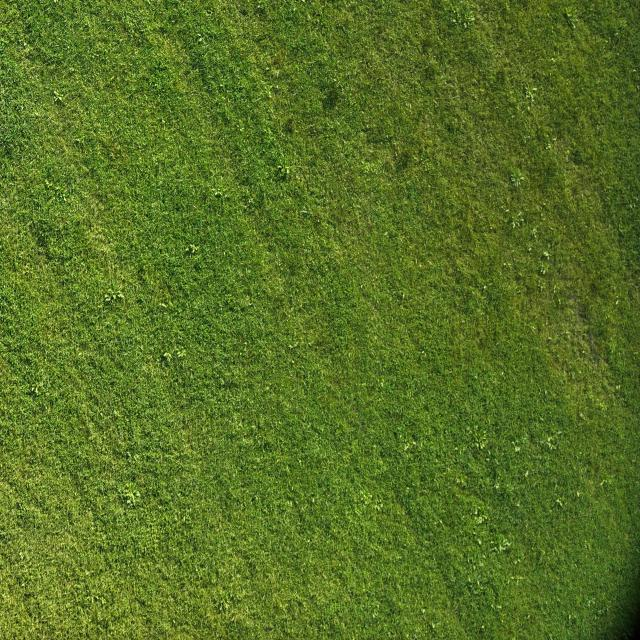rumex: (352, 99, 402, 154), (160, 340, 187, 364), (48, 180, 70, 204), (469, 428, 489, 454), (567, 145, 590, 165), (442, 78, 461, 100), (451, 10, 473, 28), (213, 592, 231, 613), (544, 432, 560, 452), (627, 76, 640, 100), (559, 360, 567, 394), (563, 9, 576, 29), (210, 186, 227, 201), (282, 117, 295, 136), (277, 161, 291, 177), (608, 340, 618, 362), (113, 292, 125, 310), (32, 381, 46, 396), (136, 267, 147, 286), (420, 198, 431, 217), (471, 513, 486, 526), (499, 539, 512, 552), (404, 438, 418, 450), (190, 57, 202, 71), (362, 162, 374, 174), (104, 291, 115, 304), (186, 243, 198, 254), (261, 439, 270, 452), (512, 218, 522, 229), (567, 615, 577, 626), (596, 606, 607, 616), (628, 199, 637, 210), (129, 494, 136, 507), (197, 37, 206, 47), (162, 351, 172, 360), (586, 598, 596, 607), (374, 501, 382, 512), (266, 88, 273, 100), (542, 252, 550, 262), (54, 89, 62, 99), (117, 290, 125, 300), (272, 69, 280, 79), (604, 184, 614, 192), (339, 84, 346, 95), (511, 441, 520, 449), (45, 180, 53, 189), (618, 226, 625, 236), (113, 409, 120, 419), (287, 342, 295, 350), (513, 445, 521, 453), (158, 302, 167, 309), (510, 574, 519, 581), (126, 496, 133, 505), (378, 378, 384, 388), (529, 92, 535, 102), (550, 56, 558, 63), (74, 137, 81, 145), (84, 85, 91, 93), (432, 100, 439, 108), (600, 479, 607, 487), (620, 19, 628, 26), (287, 499, 293, 508), (31, 384, 37, 393), (404, 442, 410, 451), (100, 596, 106, 605), (556, 297, 562, 306), (372, 610, 378, 619), (531, 86, 538, 93), (547, 435, 553, 443), (248, 197, 254, 205), (97, 302, 103, 310), (540, 267, 546, 275), (530, 230, 536, 238), (546, 142, 552, 150), (580, 411, 586, 419), (556, 498, 562, 506), (134, 490, 140, 498), (514, 180, 520, 188), (476, 580, 482, 588), (430, 621, 436, 629), (400, 291, 405, 300), (553, 284, 558, 293), (248, 302, 254, 309), (522, 135, 528, 142), (452, 17, 458, 24), (301, 208, 308, 214), (297, 458, 303, 465), (540, 200, 546, 207), (538, 284, 543, 292), (531, 325, 536, 333), (511, 176, 516, 184), (19, 552, 24, 560), (576, 490, 581, 498), (420, 350, 426, 356), (501, 206, 507, 212), (504, 208, 510, 214), (494, 483, 500, 489), (527, 104, 531, 113), (496, 604, 502, 610), (516, 558, 522, 564), (406, 632, 412, 638), (527, 246, 532, 253), (333, 76, 338, 83), (407, 102, 412, 109), (472, 564, 477, 571), (477, 538, 482, 545), (525, 470, 529, 478), (615, 298, 619, 306), (500, 371, 505, 377), (482, 284, 487, 290), (547, 336, 552, 342), (552, 137, 557, 143), (438, 519, 443, 525), (490, 604, 495, 610), (378, 395, 382, 402), (474, 509, 478, 516), (456, 477, 460, 484), (512, 222, 516, 229), (468, 576, 472, 583), (384, 232, 388, 238), (544, 389, 547, 397), (616, 384, 620, 390), (481, 624, 485, 630), (422, 608, 426, 614), (636, 68, 640, 73)
